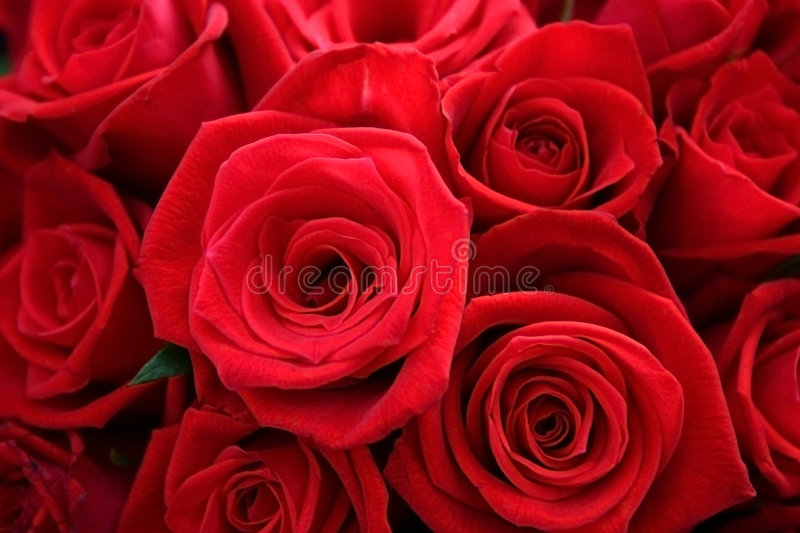RedRose: (387, 184, 768, 533), (135, 77, 455, 450), (412, 19, 669, 242)
